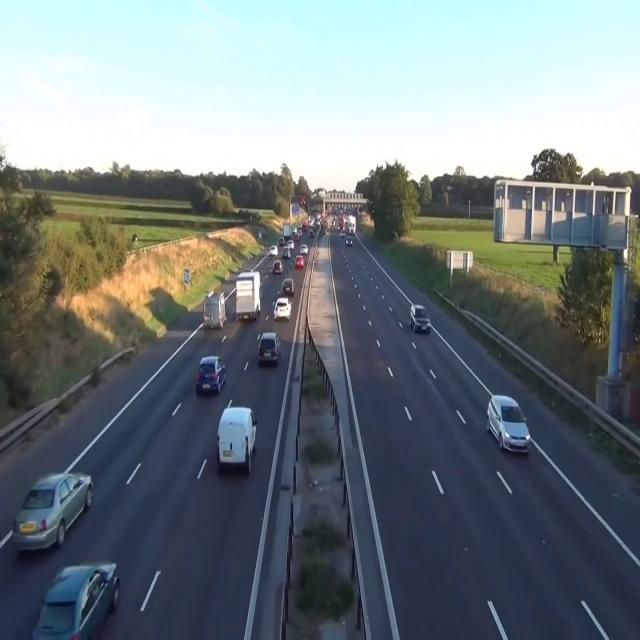belum terisi: (9, 465, 97, 548), (36, 560, 126, 640), (484, 384, 537, 469), (218, 402, 260, 474), (231, 267, 266, 329), (197, 351, 229, 405), (255, 317, 283, 372), (202, 284, 229, 338), (405, 295, 434, 342), (272, 292, 294, 323)
